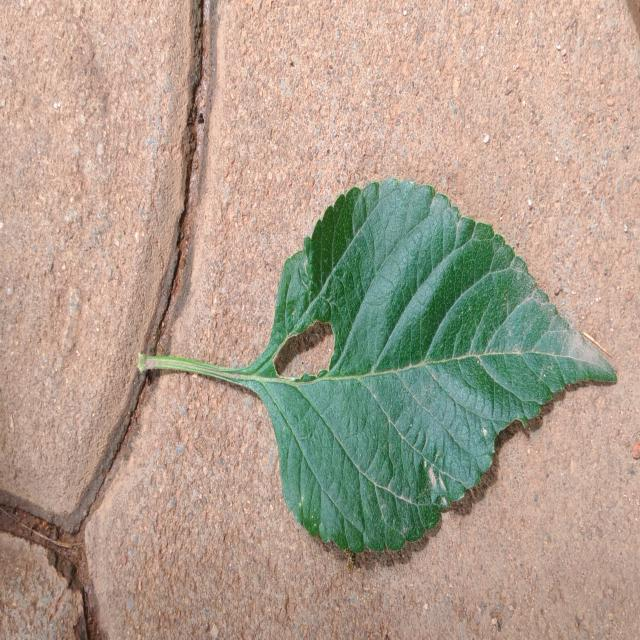Lantana: (155, 180, 616, 551)
